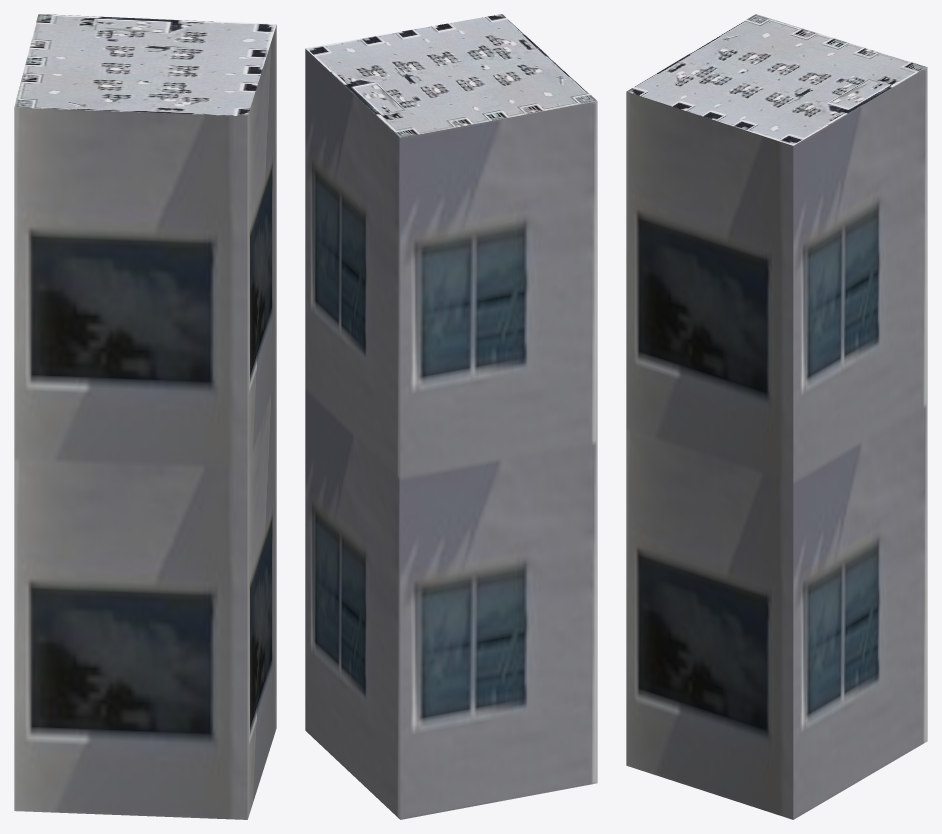
The model's file is ResTex__940.fbx.
3 renders of one model, left to right at view 1: azimuth 30°, elevation 25°; view 2: azimuth 150°, elevation 25°; view 3: azimuth 270°, elevation 25°, orthographic. The views are drawn at different scales.
Parts seen in each view (by area): view 1: CityEngineMaterial_10_m, CityEngineMaterial_m; view 2: CityEngineMaterial_10_m, CityEngineMaterial_m; view 3: CityEngineMaterial_10_m, CityEngineMaterial_m.
Part boxes in pixels (x1,y1,x2,y2): CityEngineMaterial_10_m: [14, 25, 276, 819]; CityEngineMaterial_m: [14, 14, 276, 116]; CityEngineMaterial_10_m: [305, 49, 597, 819]; CityEngineMaterial_m: [305, 14, 597, 137]; CityEngineMaterial_10_m: [626, 67, 927, 819]; CityEngineMaterial_m: [627, 14, 927, 145].
Bounding box in the file's own units: 2.52 × 6 × 2.43.
Materials: 2 (2 with a texture image).
